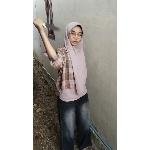Pisau: (35, 16, 63, 34)
